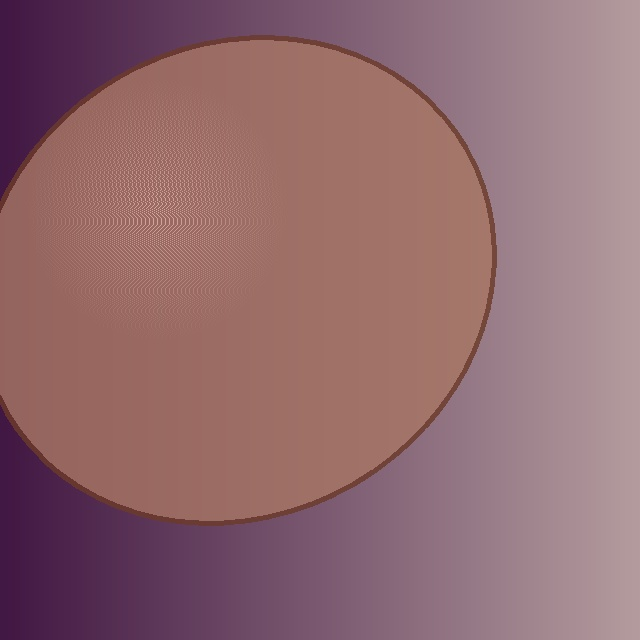lens: (0, 38, 494, 522)
